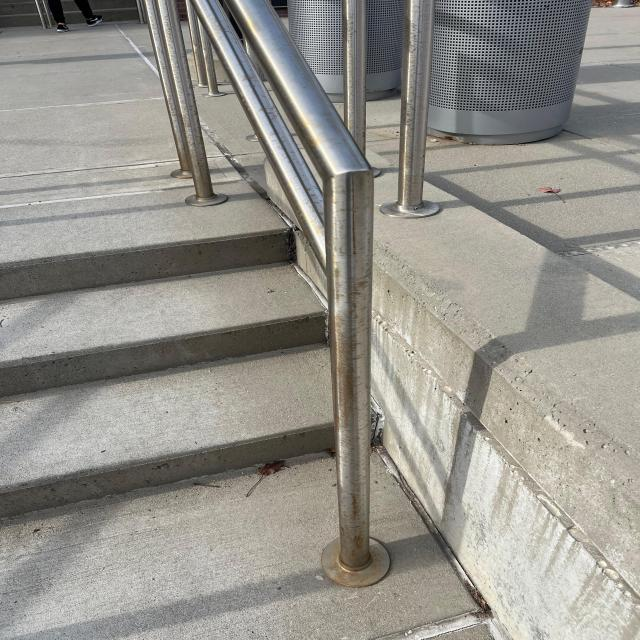Uniform Corrosion: (320, 261, 390, 587)
